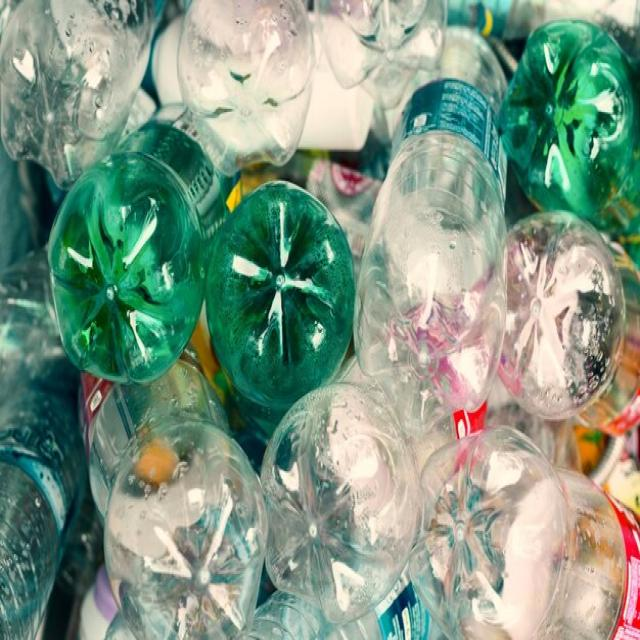plastic_bottle: (340, 0, 542, 427), (42, 97, 260, 379), (66, 346, 267, 637)
